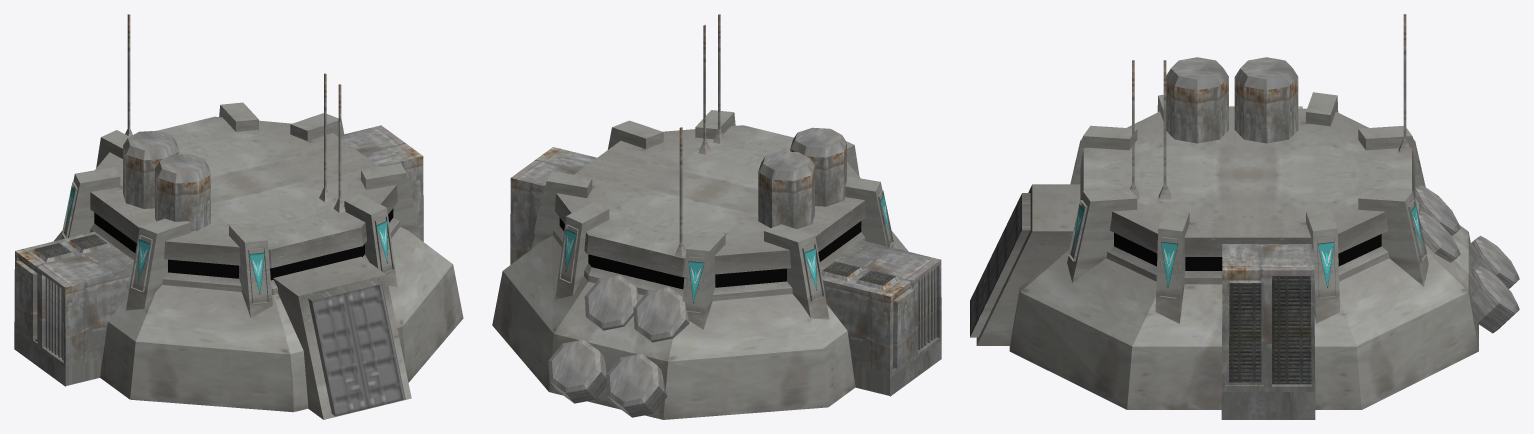
File: tecnical_center.dae
The picture shows the model from 3 angles, left to right: view 1: azimuth 30°, elevation 25°; view 2: azimuth 150°, elevation 25°; view 3: azimuth 270°, elevation 25°; orthographic projection. The views are drawn at different scales.
Visible parts, largest first — view 1: tecnical_center; view 2: tecnical_center; view 3: tecnical_center.
Part boxes in pixels (x1,y1,x2,y2): tecnical_center: (14,14,463,419); tecnical_center: (492,14,941,419); tecnical_center: (970,14,1519,419).
Size of the model in its own units: 17.97 by 20.73 by 12.2.
